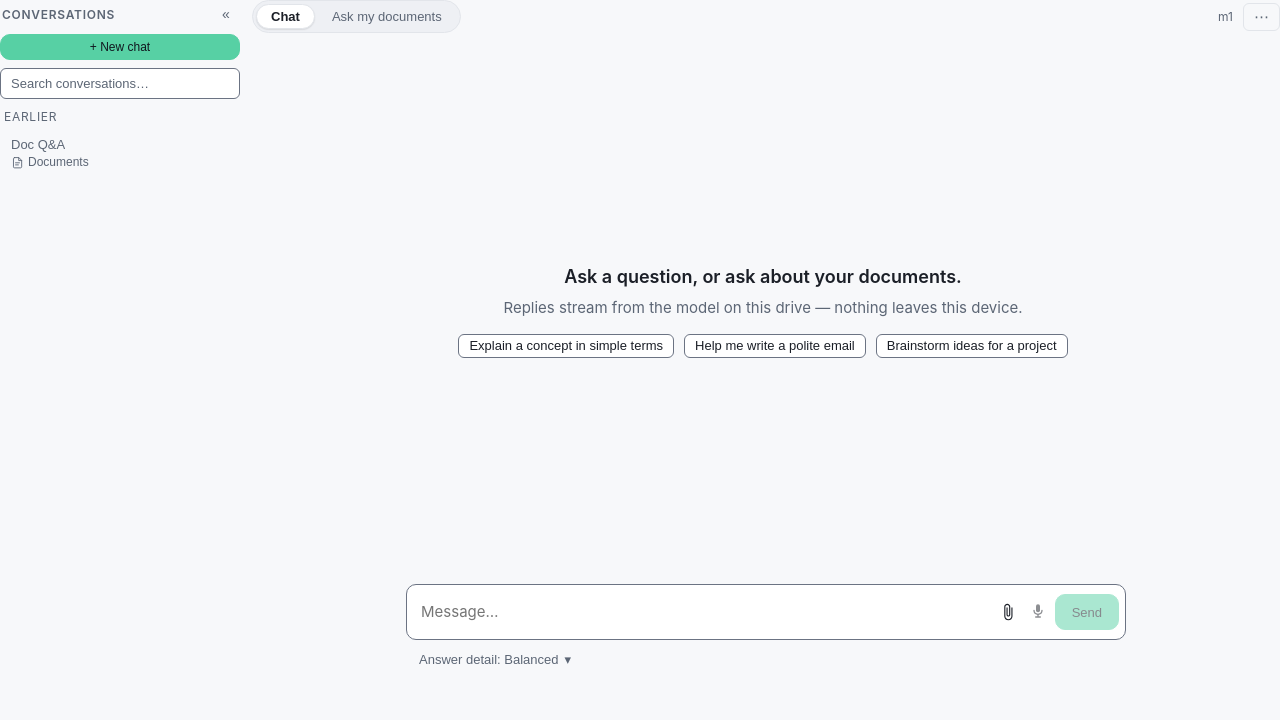
Test case: ChatScreen — chat attach / drag-drop intake (plan §11.2 / §13.5) › shows linked attachments as a read-only "Files in this chat" line
Click the text "Doc Q&A" at (38, 144), box x1=11 y1=137 x2=65 y2=152
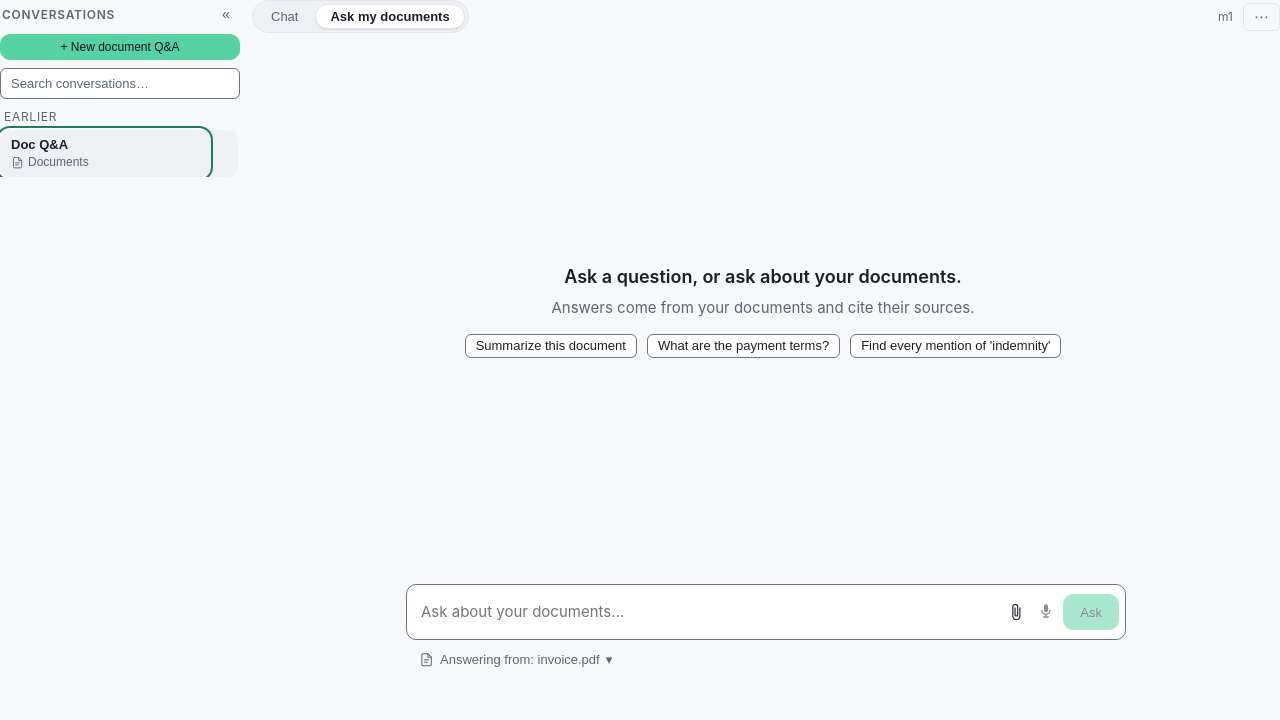
Click the button "Answering from: invoice.pdf ▾" at (516, 659), box x1=410 y1=647 x2=621 y2=671
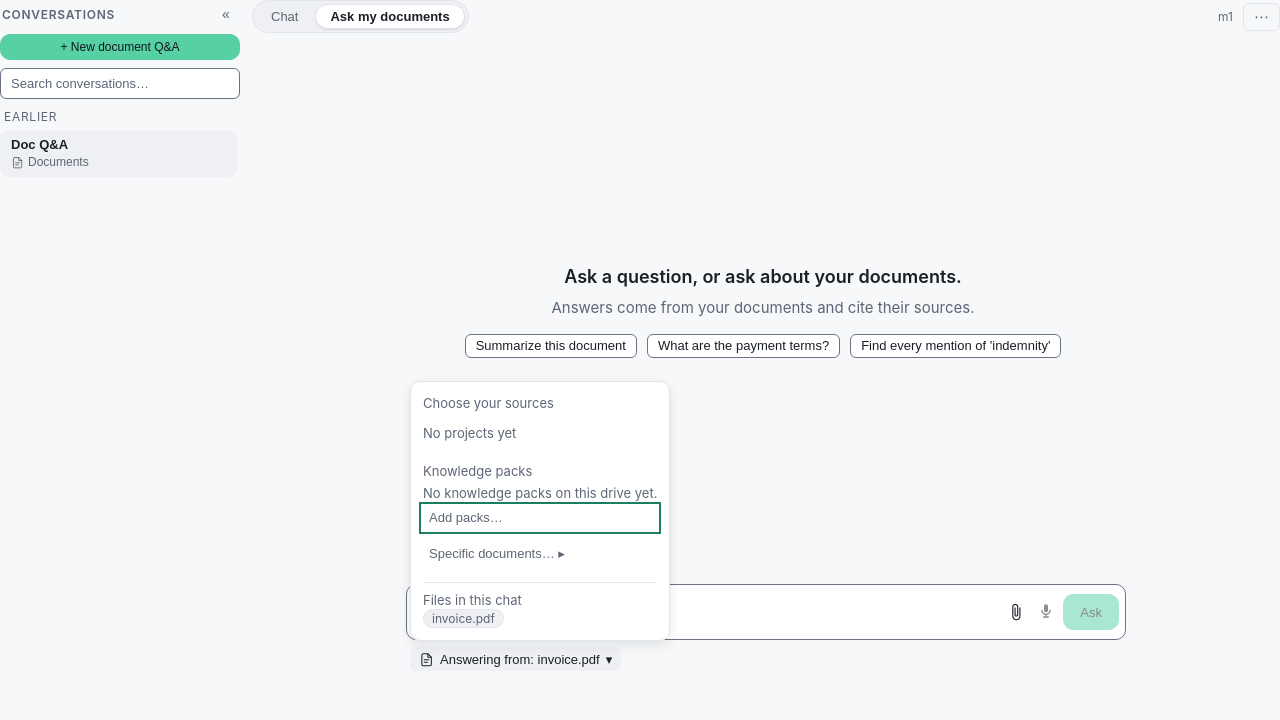
Result: the text "Files in this chat" is shown at x1=423 y1=592 x2=522 y2=608
Result: the text "invoice.pdf" is shown at x1=423 y1=609 x2=504 y2=628
